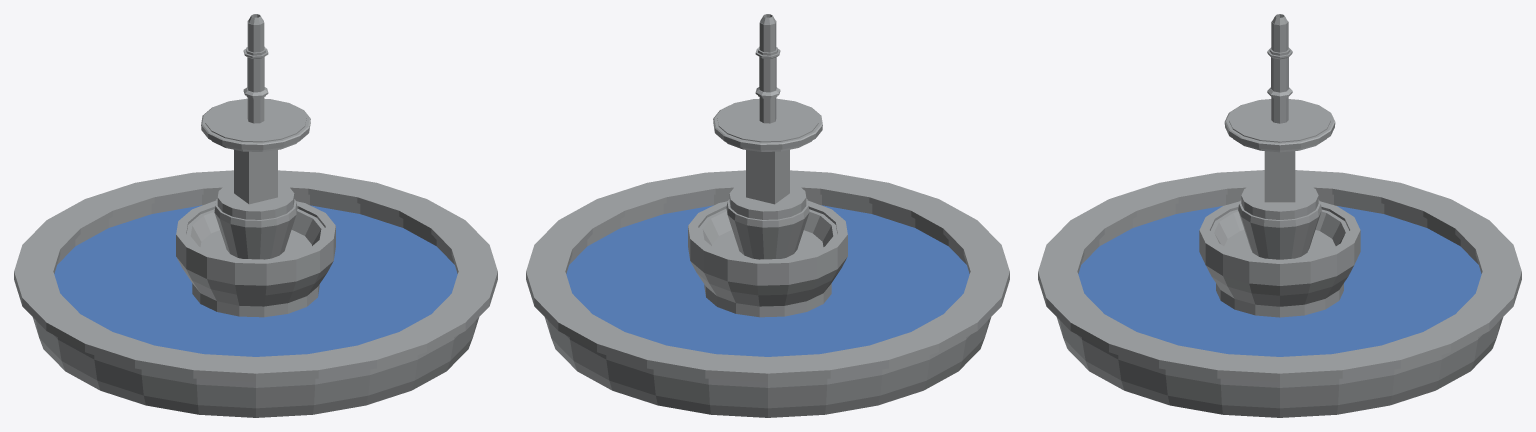
Rendered from SM_well.fbx.
3 renders of one model, left to right at view 1: azimuth 30°, elevation 25°; view 2: azimuth 150°, elevation 25°; view 3: azimuth 270°, elevation 25°, orthographic.
Visible parts, largest first — view 1: Cylinder034; view 2: Cylinder034; view 3: Cylinder034.
Part boxes in pixels (left/top/right/bottom): Cylinder034: left=14, top=14, right=497, bottom=417; Cylinder034: left=526, top=14, right=1009, bottom=417; Cylinder034: left=1038, top=14, right=1521, bottom=417.
Bounding box in the file's own units: 210 × 210 × 148.
